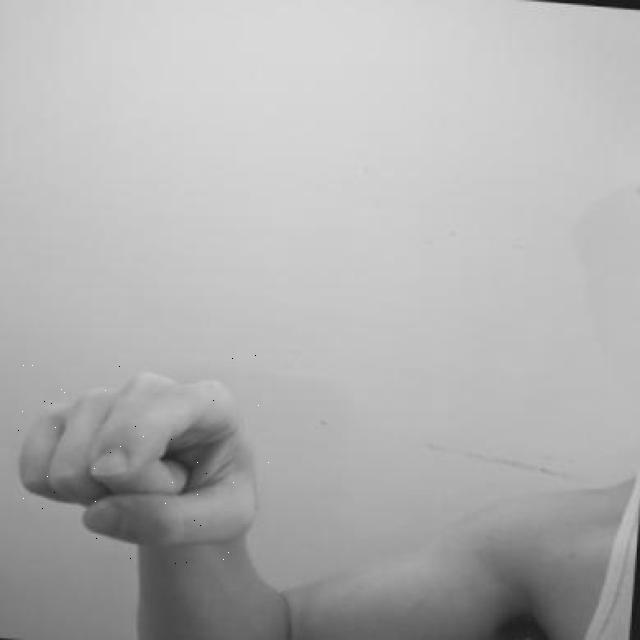Z: (5, 354, 281, 564)
